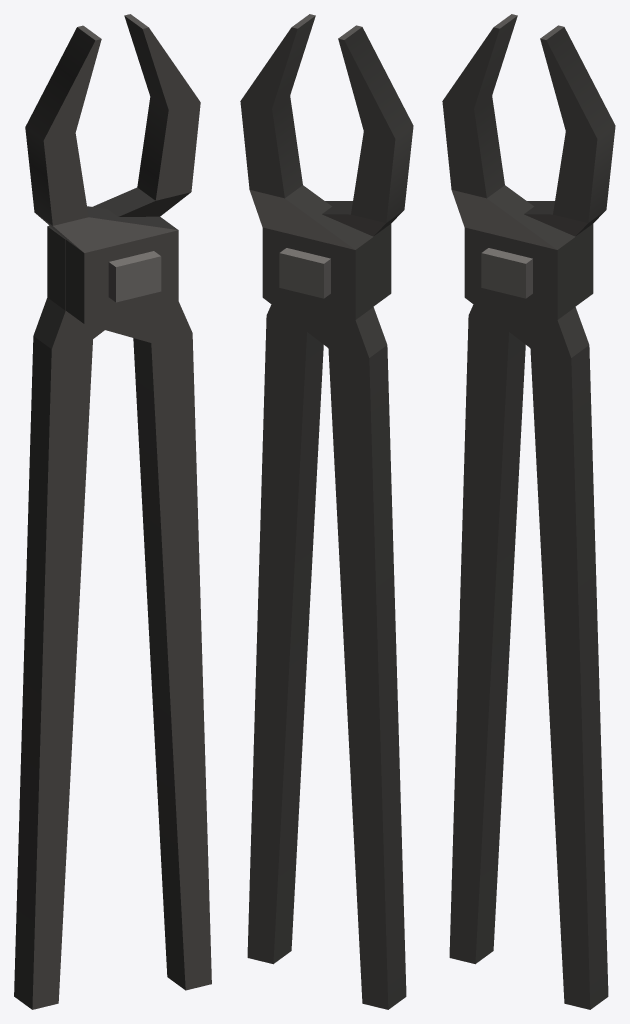
File: SD_Prop_Tool_Plier_02.fbx
3 renders of one model, left to right at view 1: azimuth 30°, elevation 25°; view 2: azimuth 150°, elevation 25°; view 3: azimuth 330°, elevation 25°, orthographic.
Visible parts, largest first — view 1: SD_Prop_Tool_Plier_02; view 2: SD_Prop_Tool_Plier_02; view 3: SD_Prop_Tool_Plier_02.
Part boxes in pixels (box(x1,y1,x2,y2)): SD_Prop_Tool_Plier_02: box(14, 14, 211, 1009); SD_Prop_Tool_Plier_02: box(240, 14, 413, 1009); SD_Prop_Tool_Plier_02: box(442, 14, 615, 1009).
Bounding box in the file's own units: 0.2687 × 1.53 × 0.1479.
